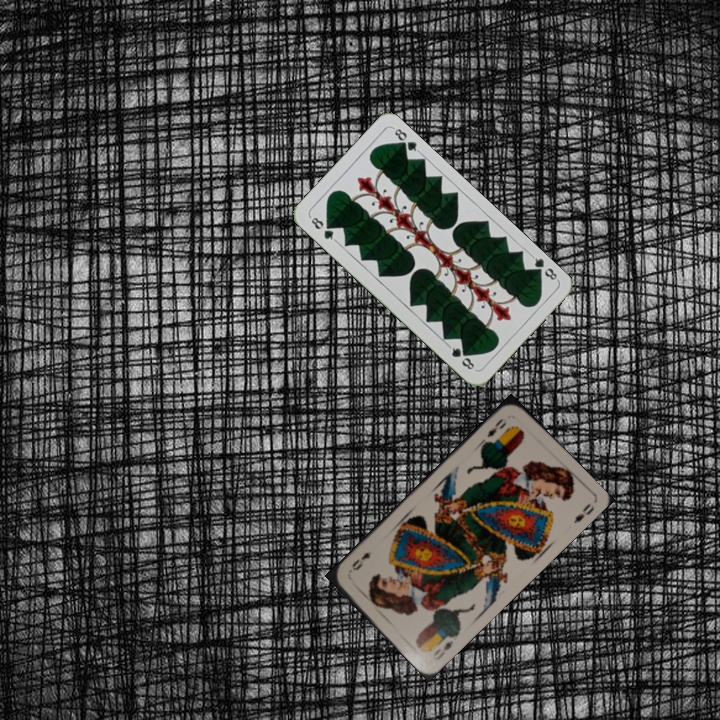EO: (428, 636, 456, 663), (483, 414, 509, 440)
G8: (528, 251, 561, 283), (306, 213, 339, 244)
